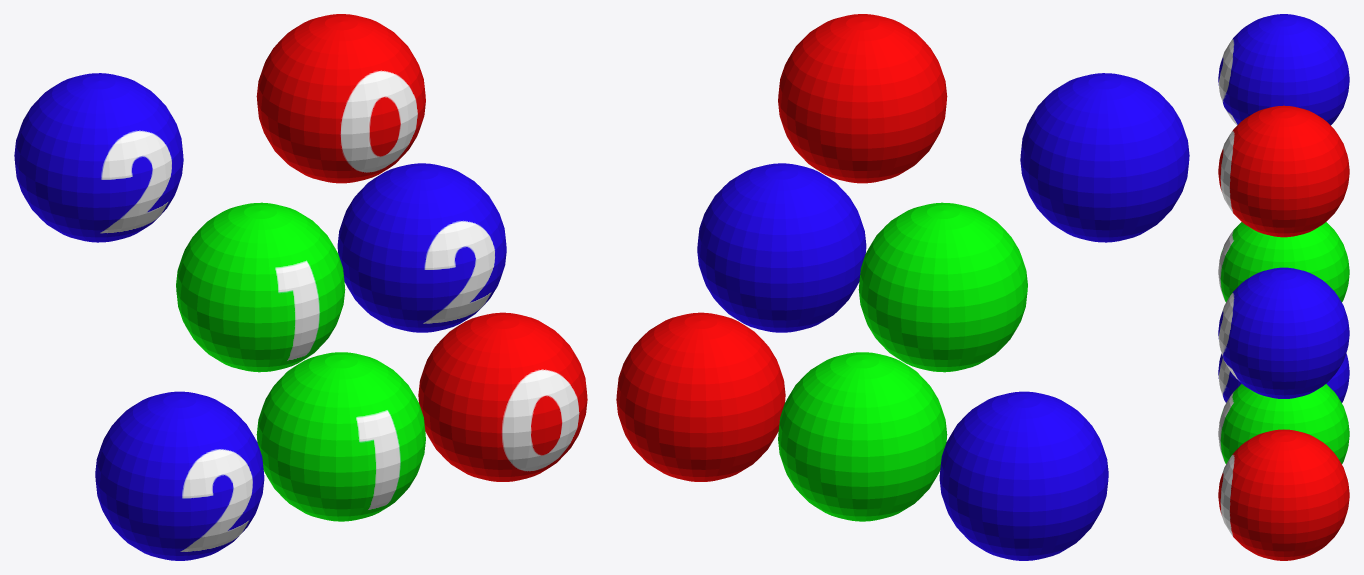
Rendered from order-test.glb.
3 views of the same model, side by side, from view 1: azimuth 30°, elevation 25°; view 2: azimuth 150°, elevation 25°; view 3: azimuth 270°, elevation 25° (orthographic). The views are drawn at different scales.
Visible parts, largest first — view 1: Node6, Node1, Node0, Node2, Node4, Node3, Node5; view 2: Node6, Node1, Node0, Node2, Node4, Node3, Node5; view 3: Node5, Node3, Node0, Node6, Node1, Node4, Node2.
Boxes of the visible parts, <box> form: Node6: <box>14,73,183,242</box>; Node1: <box>176,202,345,372</box>; Node0: <box>256,14,425,183</box>; Node2: <box>95,391,264,560</box>; Node4: <box>256,352,425,521</box>; Node3: <box>337,163,506,332</box>; Node5: <box>418,312,587,481</box>; Node6: <box>1020,73,1189,242</box>; Node1: <box>858,202,1027,372</box>; Node0: <box>778,14,947,183</box>; Node2: <box>939,391,1108,560</box>; Node4: <box>778,352,947,521</box>; Node3: <box>697,163,866,332</box>; Node5: <box>616,312,785,481</box>; Node5: <box>1218,429,1349,560</box>; Node3: <box>1218,267,1349,398</box>; Node0: <box>1218,105,1349,237</box>; Node6: <box>1218,14,1349,125</box>; Node1: <box>1218,222,1349,302</box>; Node4: <box>1218,384,1349,463</box>; Node2: <box>1218,353,1349,402</box>.
Bounding box in the file's own units: 7.5 × 6.4 × 2.
Materials: 3 (3 with a texture image).
